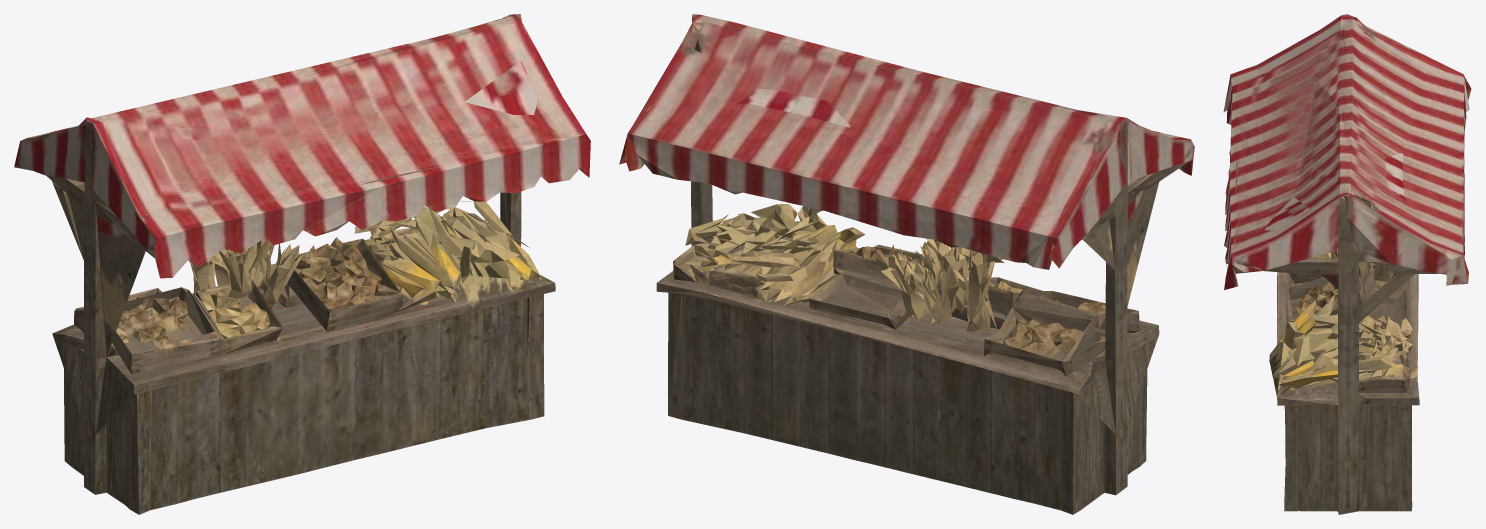
The model's file is market.glb.
3 views of the same model, side by side, from view 1: azimuth 30°, elevation 25°; view 2: azimuth 150°, elevation 25°; view 3: azimuth 270°, elevation 25° (orthographic). The views are drawn at different scales.
Visible parts, largest first — view 1: output_unwrapped; view 2: output_unwrapped; view 3: output_unwrapped.
Part boxes in pixels (x1,y1,x2,y2): output_unwrapped: [14, 14, 590, 514]; output_unwrapped: [619, 14, 1194, 514]; output_unwrapped: [1223, 14, 1471, 514].
Bounding box in the file's own units: 1.89 × 1.52 × 1.07.
Materials: 1 (1 with a texture image).
